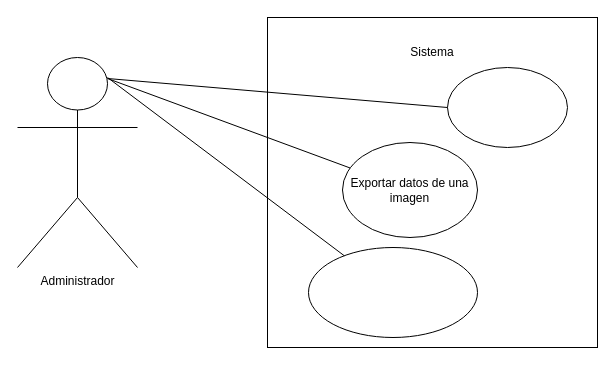
This 615x365 diagram has some shape labels left out. Here are the shapes that lost their labels. From the top down, the box of each, then its label:
(446, 66, 568, 148): Exportar datos de un jugador
(308, 246, 478, 338): Exportar datos del modo de juego en solitario en un rango de fechas
